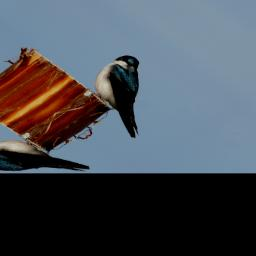Swallow: (65, 51, 195, 141)
